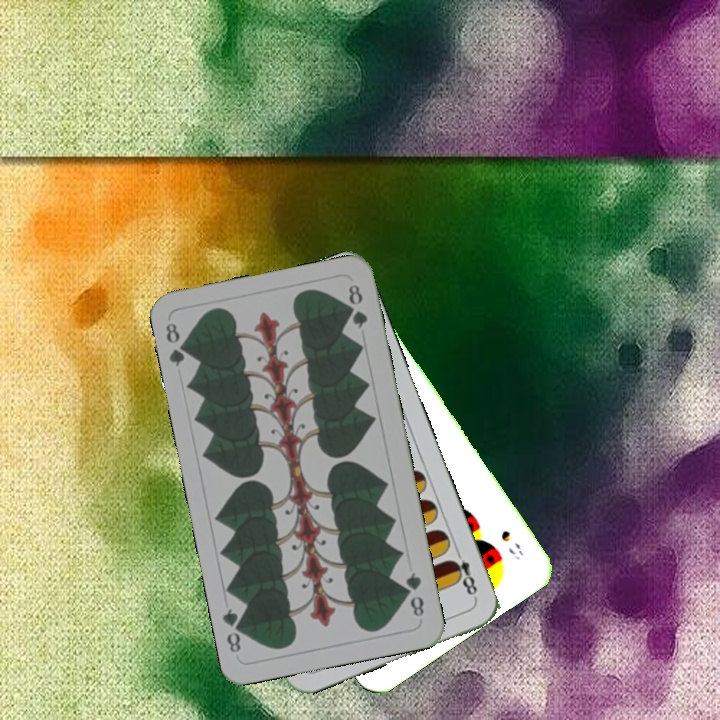E8: (445, 545, 480, 602)
G8: (161, 318, 193, 369), (401, 568, 427, 620)
S8: (497, 526, 525, 563)
